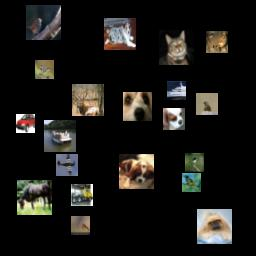airplane: (56, 154, 78, 176)
automobile: (16, 114, 35, 133)
bird: (26, 5, 61, 40), (196, 93, 218, 115), (71, 216, 90, 235), (35, 60, 54, 79), (185, 153, 204, 172), (182, 173, 201, 192)
cat: (159, 30, 194, 65)
deer: (72, 84, 104, 116)
dog: (197, 209, 232, 244), (119, 154, 154, 189), (104, 18, 136, 50), (123, 92, 152, 121), (163, 108, 185, 130)
frog: (206, 31, 228, 53)
ship: (44, 120, 76, 152), (167, 81, 186, 100)
truck: (71, 184, 93, 206)
